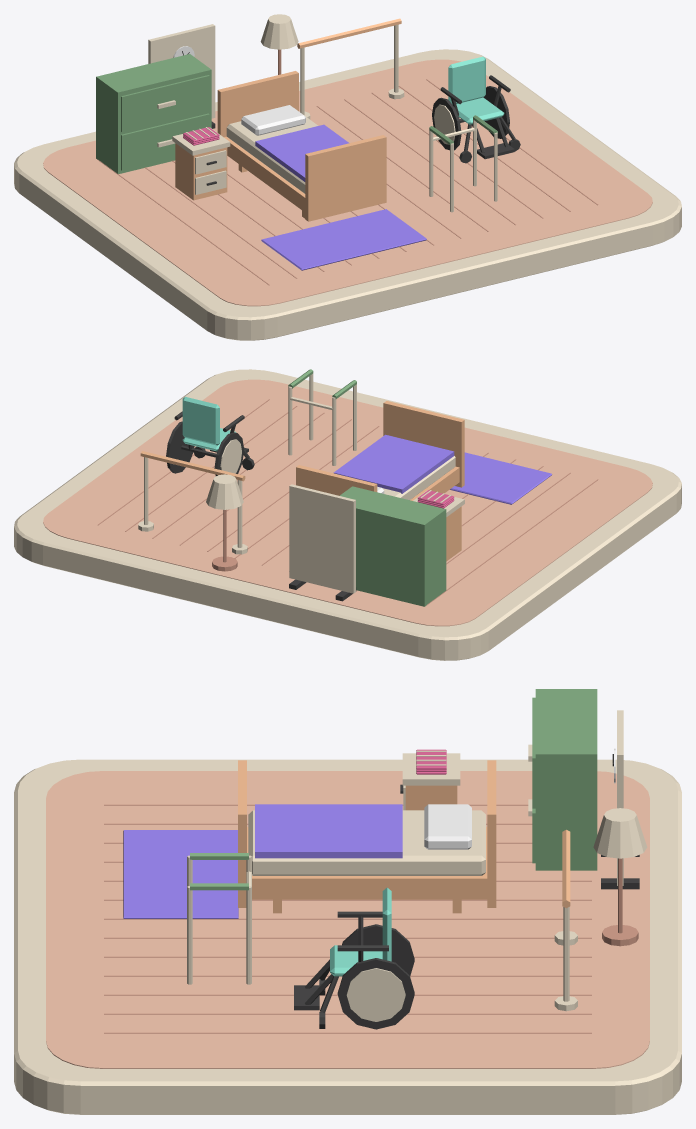
File: room.fbx
3 renders of one model, top to bottom at view 1: azimuth 30°, elevation 25°; view 2: azimuth 150°, elevation 25°; view 3: azimuth 270°, elevation 25°, orthographic. The views are drawn at different scales.
Visible parts, largest first — view 1: COM-02 Floor Surface, COM-01 Rounded Base Direct, Cabinet, End board, Rug, End board.001, Blanket, Panel, Mattress, Frame, Backrest, Body (+10 smaller); view 2: COM-02 Floor Surface, COM-01 Rounded Base Direct, Cabinet, Panel, Blanket, End board, Rug, Backrest, End board.001, Lamp shade, Rear wheel.001, Mattress (+4 smaller); view 3: COM-02 Floor Surface, COM-01 Rounded Base Direct, Cabinet, Rug, Blanket, Mattress, Frame, Push rim.001, Pillow, Lamp shade, Rear wheel.001, End board.001 (+18 smaller).
Part boxes in pixels (x1,y1,x2,y2): COM-02 Floor Surface: (43,59,652,306); COM-01 Rounded Base Direct: (14,49,681,340); Cabinet: (96,54,211,173); End board: (305,135,386,221); Rug: (261,209,426,270); End board.001: (217,71,298,137); Blanket: (255,124,349,181); Panel: (148,24,215,118); Mattress: (226,109,318,193); Frame: (224,136,305,212); Backrest: (448,56,485,104); Body: (175,143,227,200); COM-02 Floor Surface: (43,379,652,626); COM-01 Rounded Base Direct: (14,369,681,660); Cabinet: (339,486,446,606); Panel: (289,484,355,593); Blanket: (333,434,454,493); End board: (383,401,464,487); Rug: (450,452,551,504); Backrest: (182,396,219,445); End board.001: (296,465,377,495); Lamp shade: (206,474,243,509); Rear wheel.001: (166,421,194,473); Mattress: (382,456,455,500); COM-02 Floor Surface: (46,771,649,1068); COM-01 Rounded Base Direct: (14,759,681,1114); Cabinet: (528,689,597,870); Rug: (123,830,238,918); Blanket: (255,804,402,858); Mattress: (248,810,485,875); Frame: (247,827,487,899); Push rim.001: (346,968,405,1021); Pillow: (424,804,471,849); Lamp shade: (593,808,647,858); Rear wheel.001: (337,958,414,1029); End board.001: (487,760,496,907).
Bounding box in the file's own units: 600 × 148 × 520.
